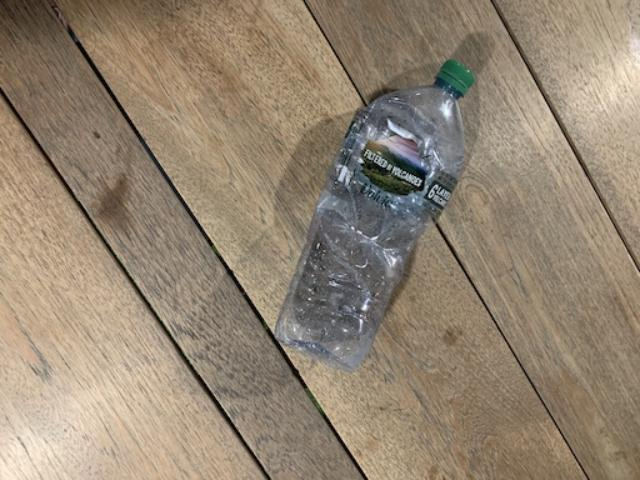plastic: (274, 59, 471, 369)
